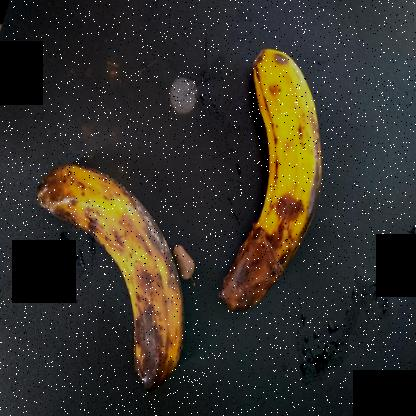rotten: (30, 154, 187, 401), (217, 34, 334, 341)
